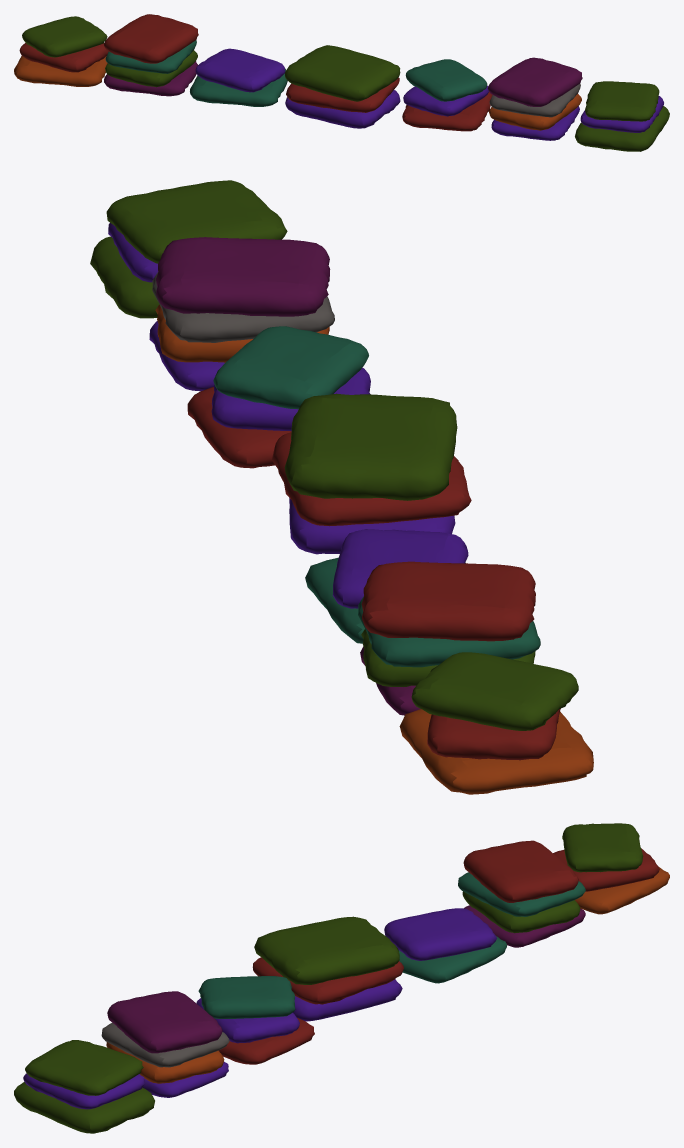
File: clothing.glb
3 renders of one model, top to bottom at view 1: azimuth 30°, elevation 25°; view 2: azimuth 150°, elevation 25°; view 3: azimuth 270°, elevation 25°, orthographic. The views are drawn at different scales.
Visible parts, largest first — view 1: clothes 4, clothes 6, clothes 2, clothes 7, clothes 1, clothes 3, clothes 5; view 2: clothes 4, clothes 7, clothes 2, clothes 6, clothes 3, clothes 1, clothes 5; view 3: clothes 4, clothes 6, clothes 2, clothes 1, clothes 3, clothes 7, clothes 5.
Boxes of the visible parts, <box> form: clothes 4: <box>285,45,400,128</box>; clothes 6: <box>104,14,198,96</box>; clothes 2: <box>487,57,582,140</box>; clothes 7: <box>14,16,108,86</box>; clothes 1: <box>575,81,669,151</box>; clothes 3: <box>402,59,492,131</box>; clothes 5: <box>190,48,287,106</box>; clothes 4: <box>272,393,471,554</box>; clothes 7: <box>399,652,593,794</box>; clothes 2: <box>149,237,334,391</box>; clothes 6: <box>358,561,540,715</box>; clothes 3: <box>187,326,370,468</box>; clothes 1: <box>90,180,287,318</box>; clothes 5: <box>305,529,468,643</box>; clothes 4: <box>252,916,403,1021</box>; clothes 6: <box>458,840,585,947</box>; clothes 2: <box>101,991,229,1097</box>; clothes 1: <box>14,1040,154,1133</box>; clothes 3: <box>196,976,314,1064</box>; clothes 7: <box>553,823,669,914</box>; clothes 5: <box>384,908,506,983</box>.
Size of the model in its own units: 1.2 by 0.1354 by 1.2.
